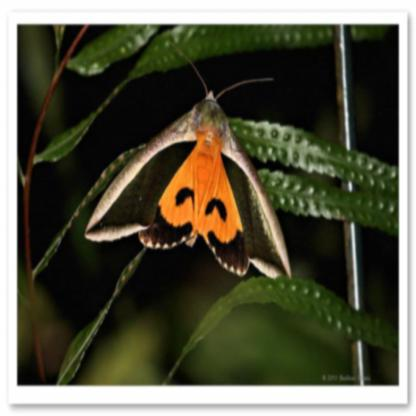fruit sucking moth: (86, 90, 292, 279)
